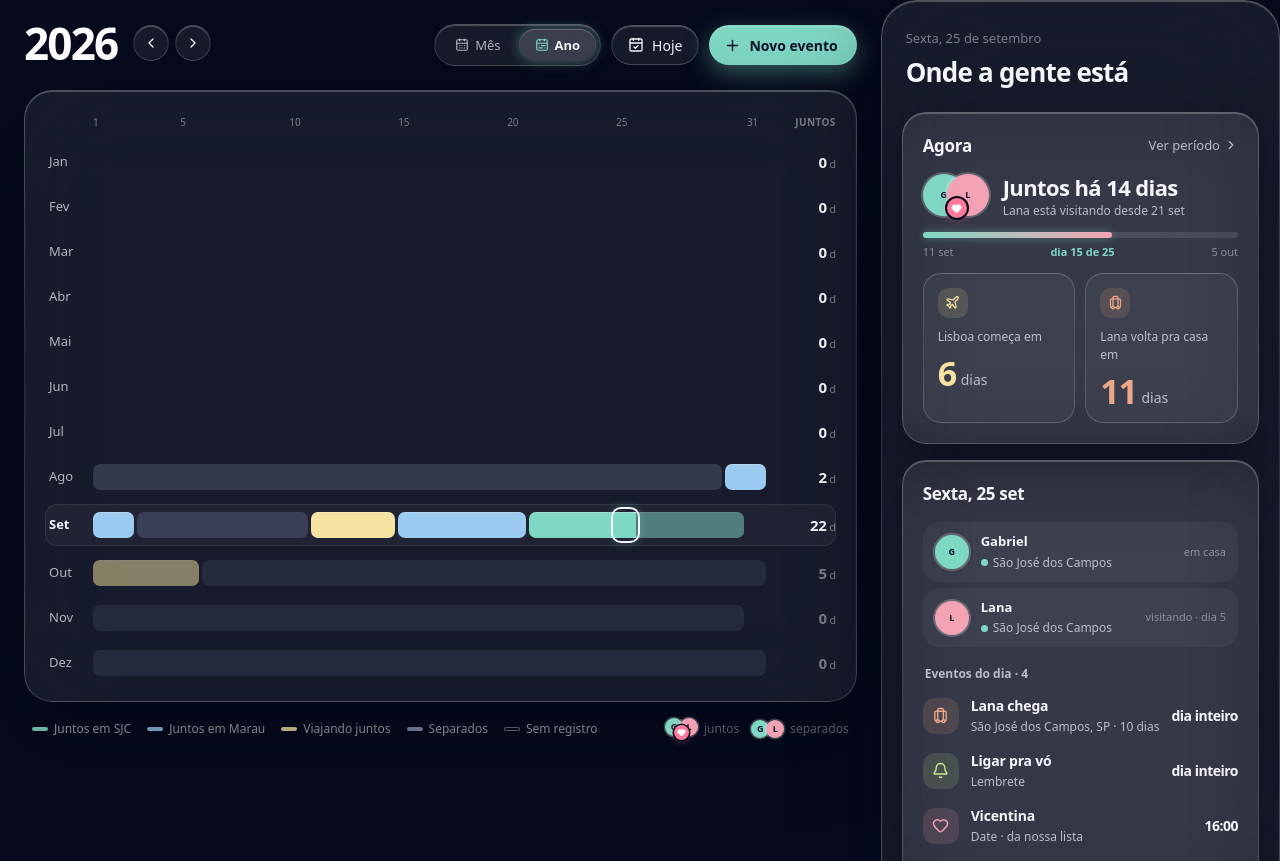
Test: A15 — a visão Ano › as setas andam de ano em ano na visão Ano
Check: the element named "Ano" is shown, box [24,90,857,740]
Click the button named "Anterior" at (152, 43), box [134,25,170,61]
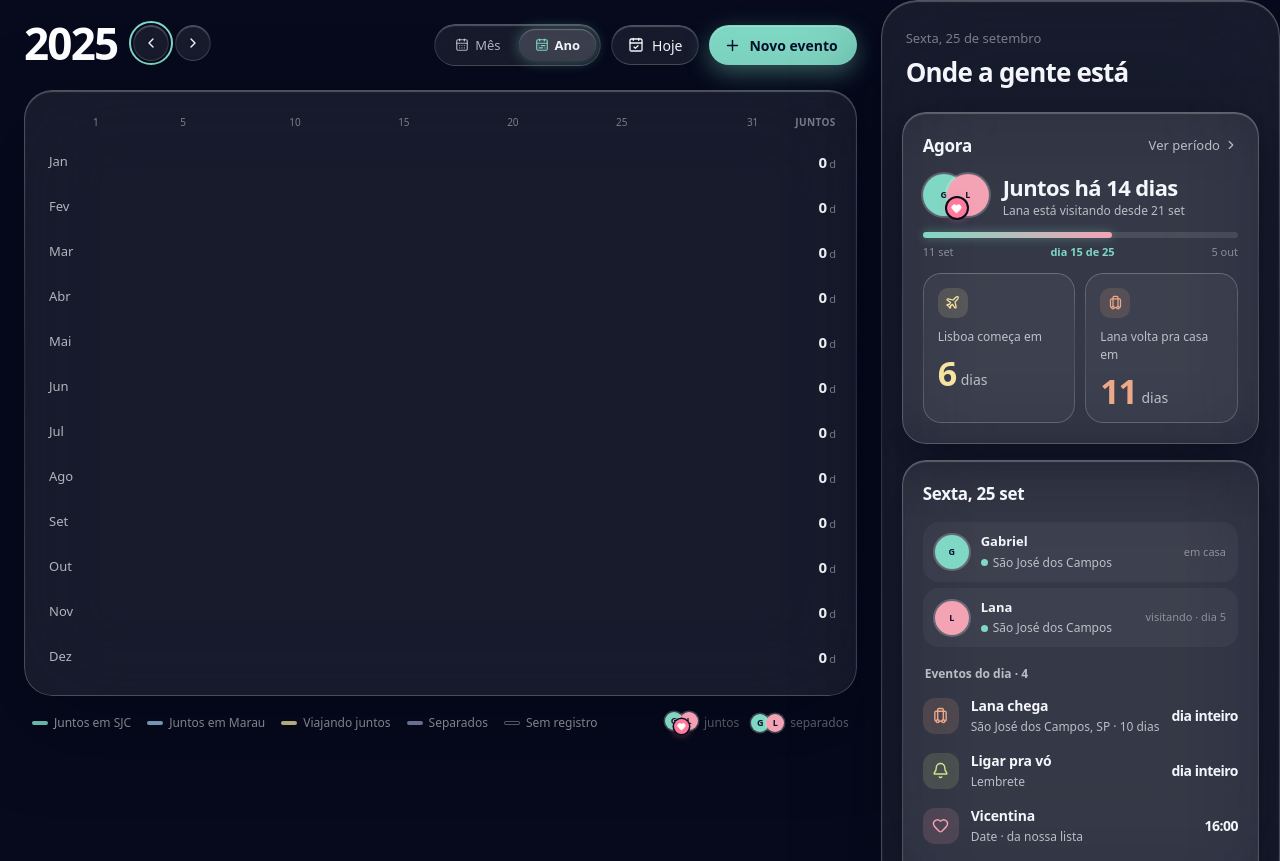
Check: the heading "2025" is shown, box [24,20,118,66]
Click the button named "Próximo" at (194, 43), box [176,25,212,61]
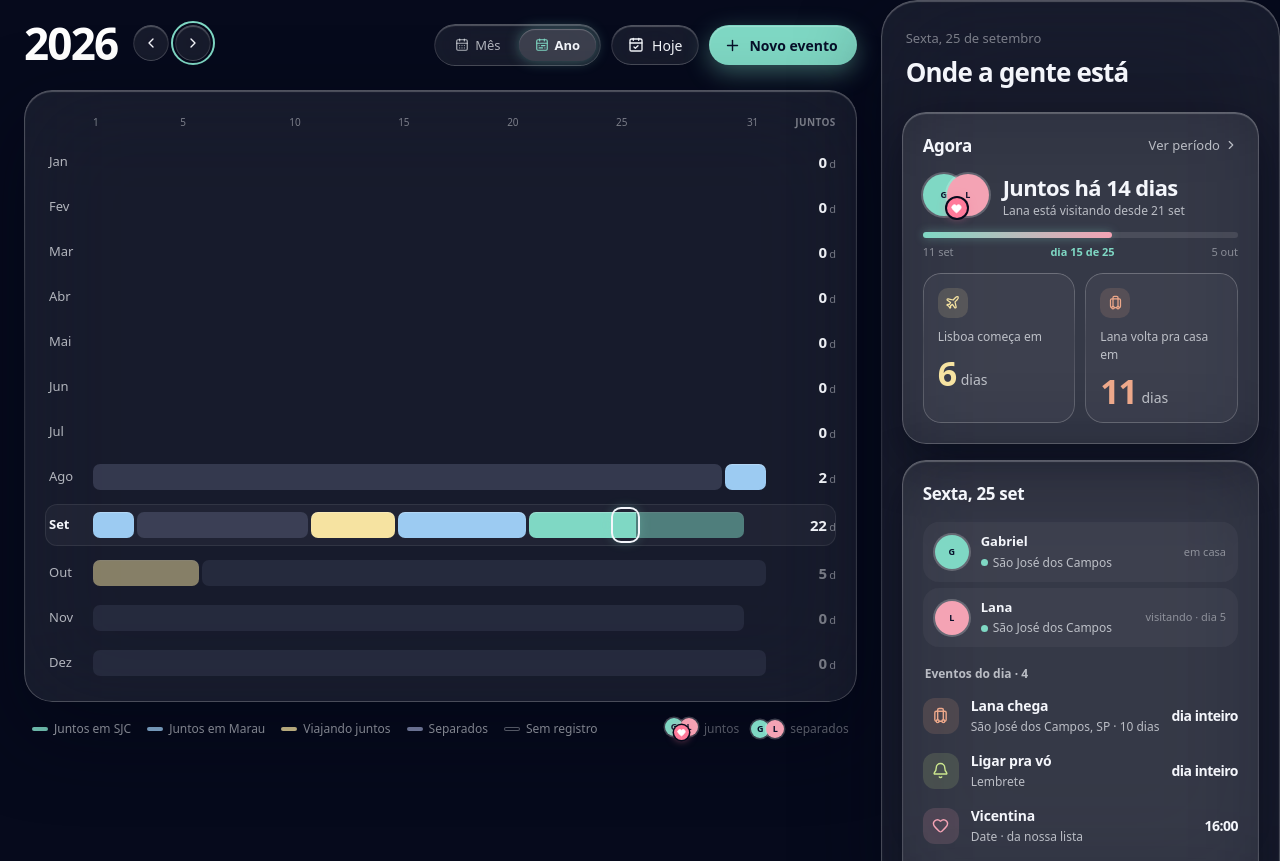
Click the button named "Próximo" at (194, 43), box [176,25,212,61]
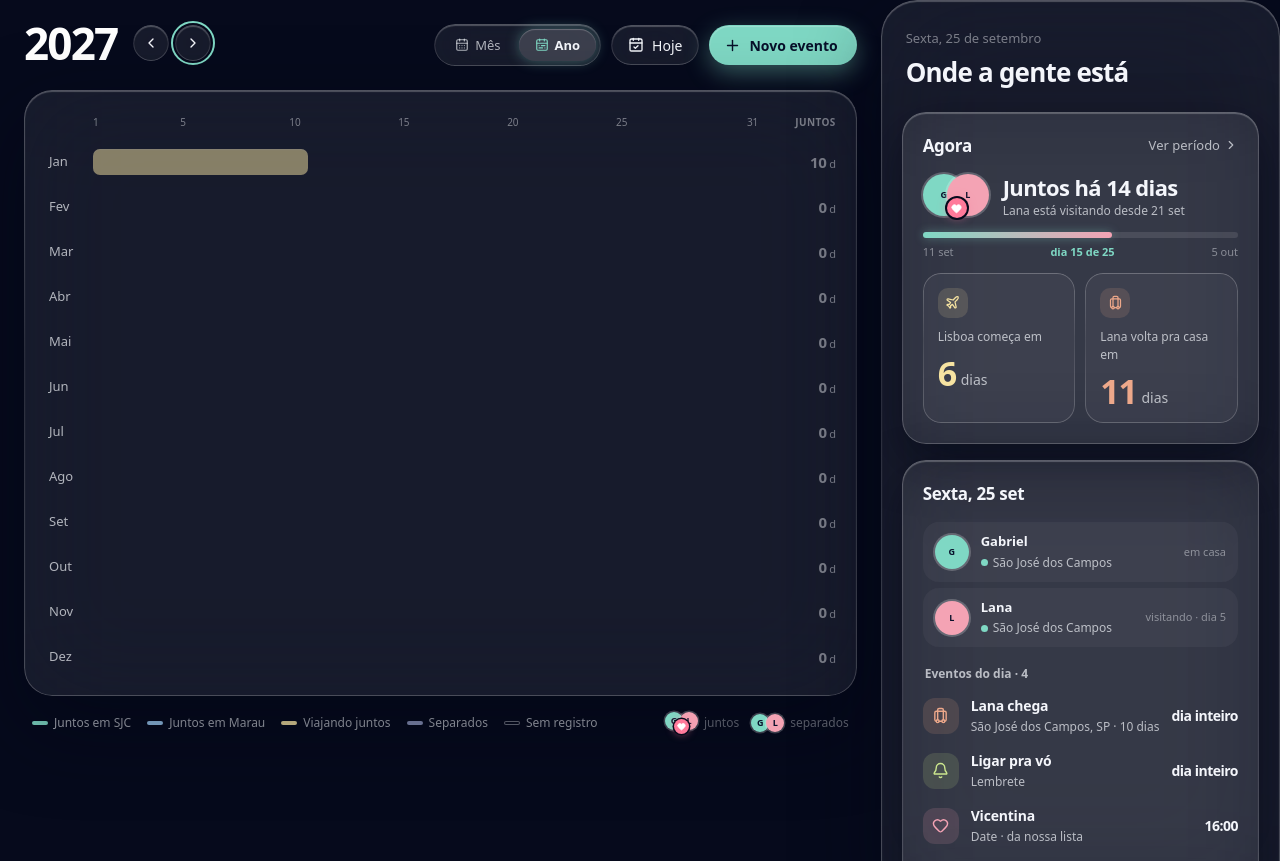
Check: the heading "2027" is shown, box [24,20,118,66]
